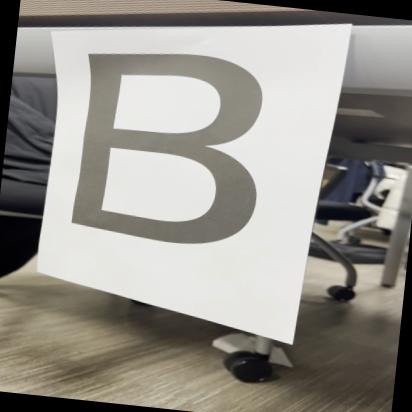seat: (49, 35, 319, 276)
